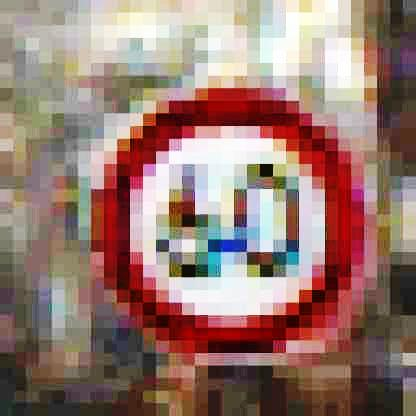Speed Limit -60-: (82, 86, 378, 362)
